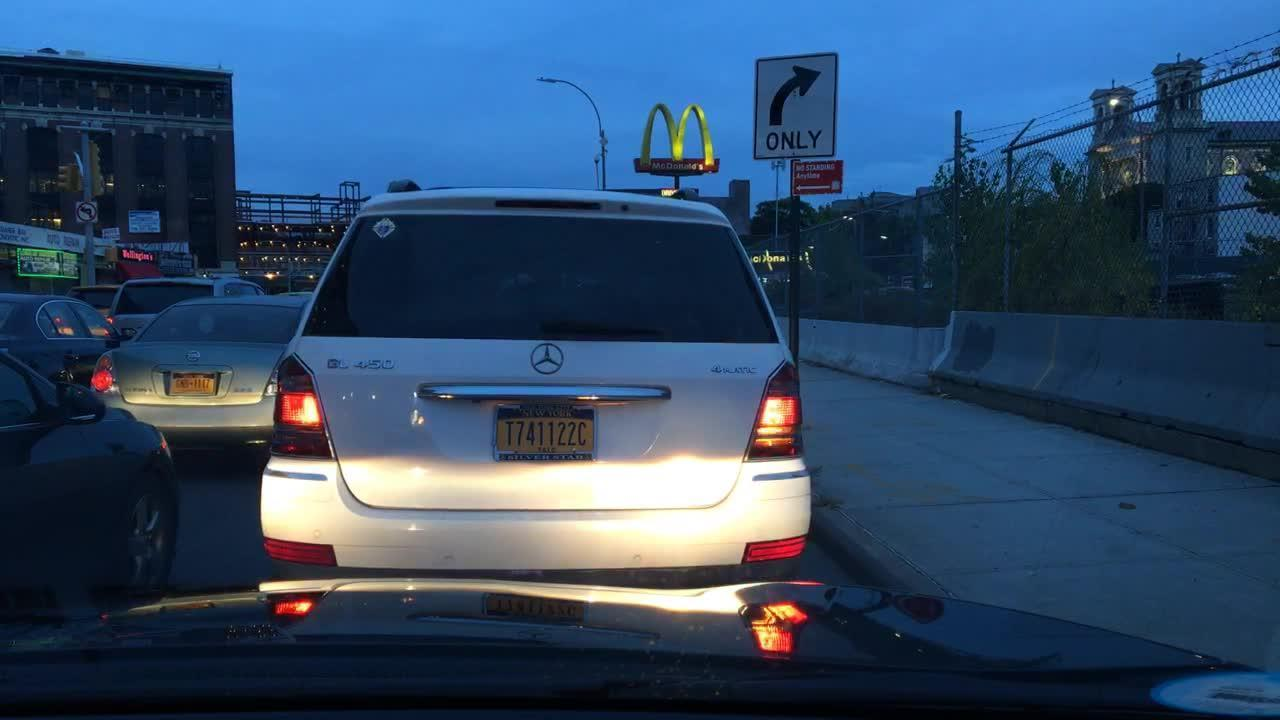Mercedes: (528, 339, 570, 379)
